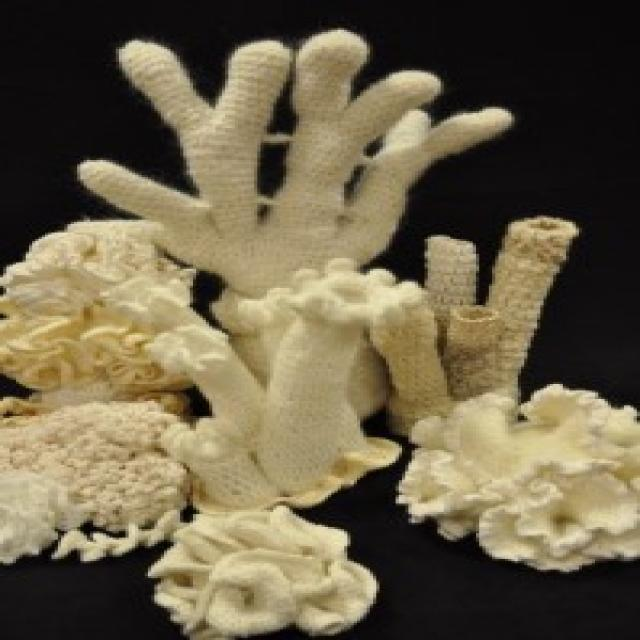Bleached: (1, 223, 579, 561), (94, 39, 501, 295), (396, 380, 640, 568), (158, 496, 375, 640)
